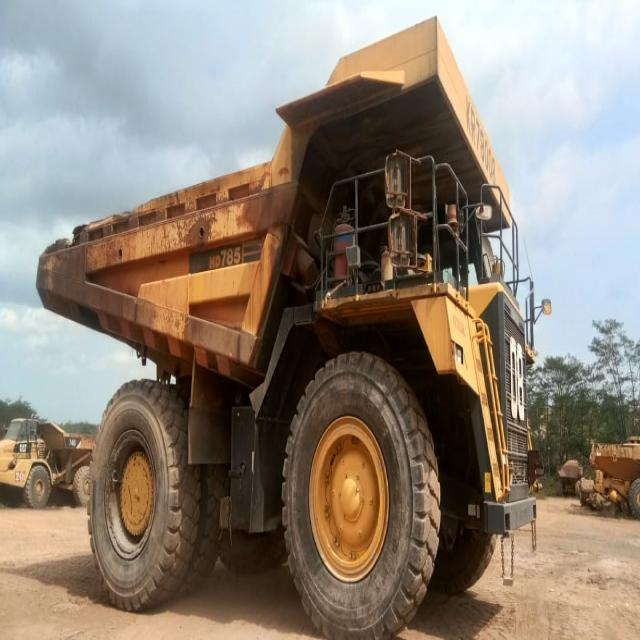dump_truck: (27, 17, 540, 637)
